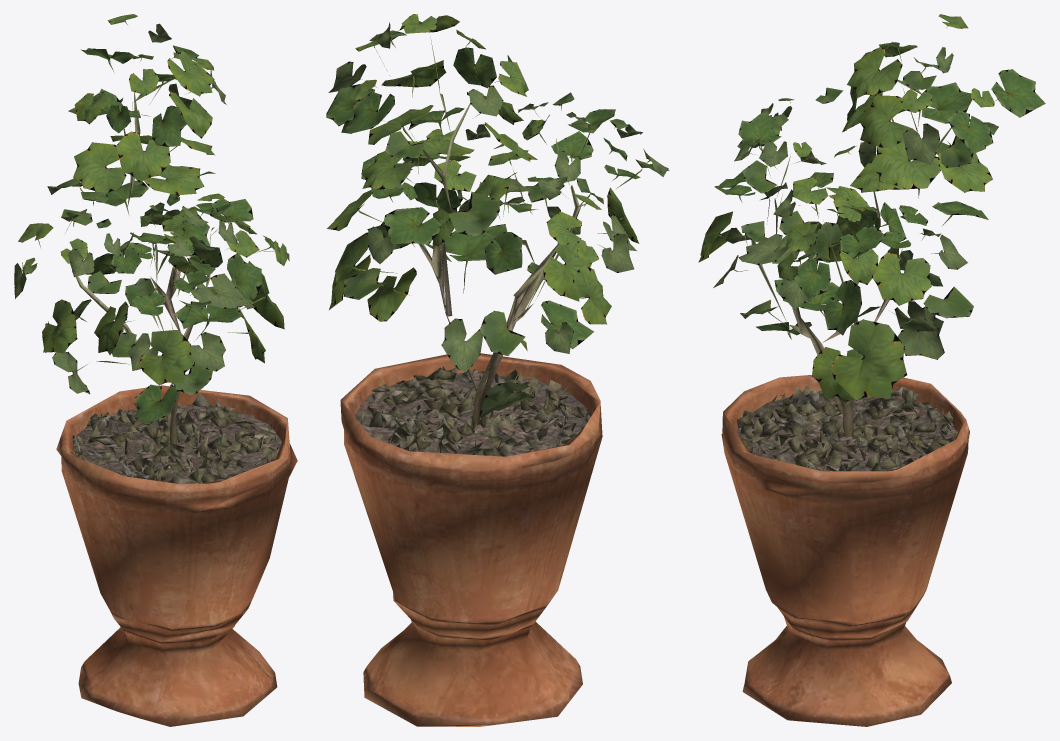
The model's file is potted_plant_01.glb.
3 views of the same model, side by side, from view 1: azimuth 30°, elevation 25°; view 2: azimuth 150°, elevation 25°; view 3: azimuth 270°, elevation 25° (orthographic). The views are drawn at different scales.
Parts seen in each view (by area): view 1: potted_plant_01_stem, potted_plant_01_leaves; view 2: potted_plant_01_stem, potted_plant_01_leaves; view 3: potted_plant_01_stem, potted_plant_01_leaves.
Boxes of the visible parts, x1,y1,x2,y2 form: potted_plant_01_stem: (56, 92, 297, 726); potted_plant_01_leaves: (14, 14, 289, 423); potted_plant_01_stem: (340, 89, 602, 726); potted_plant_01_leaves: (326, 14, 669, 417); potted_plant_01_stem: (721, 88, 969, 726); potted_plant_01_leaves: (698, 14, 1045, 401).
Size of the model in its own units: 0.5866 by 1.33 by 0.6336.
Materials: 2 (2 with a texture image).
